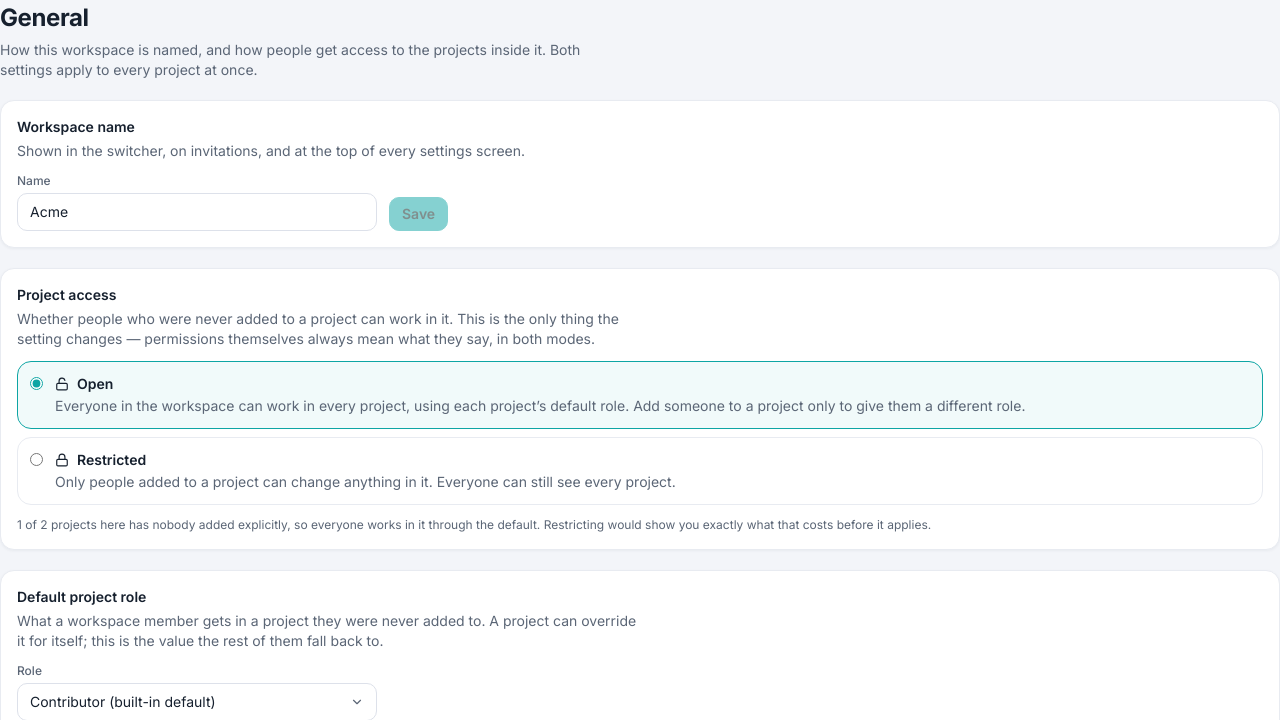
Test: WorkspaceGeneralPage — the impact preview › leads with the honest headline — nobody, INCLUDING the owner, could file an issue
Click the radio button labelled "Restricted" at point(36, 460), box [30,453,43,466]
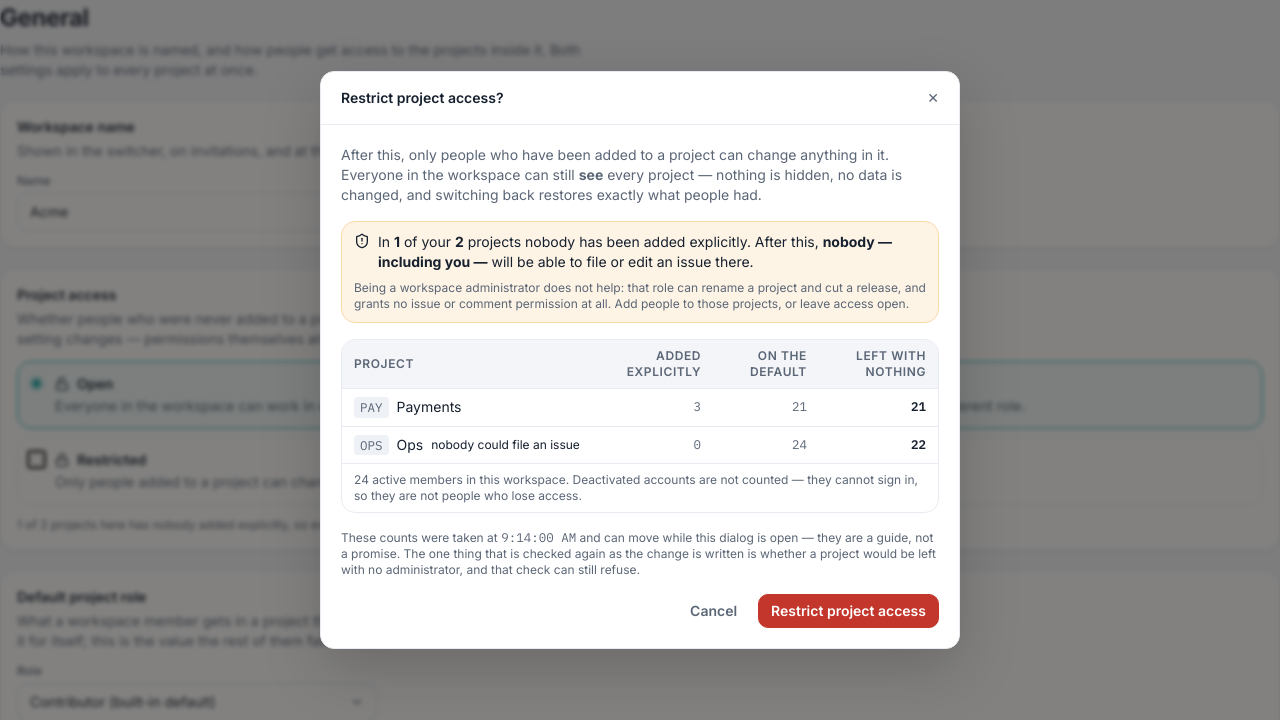
Check: the text "nobody — including you —" is shown, box [378,233,892,270]
Check: the text "OPS" is shown, box [354,434,388,455]
Check: the text "nobody could file an issue" is shown, box [431,437,580,453]
